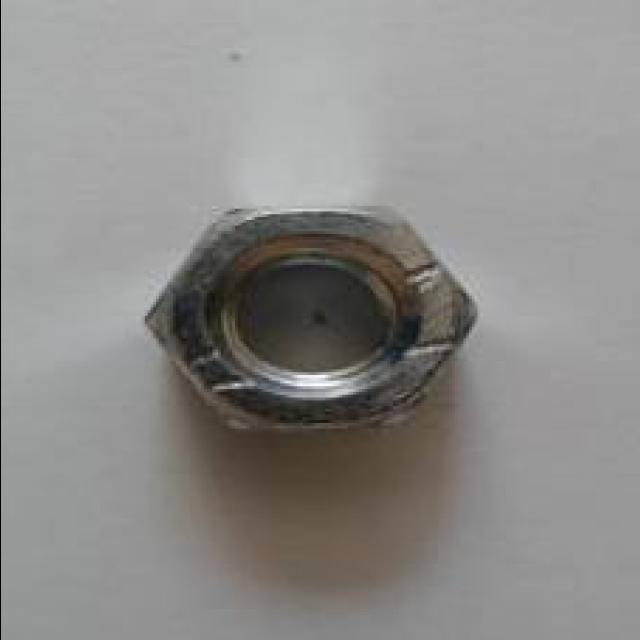ecrouOK: (140, 196, 484, 438)
